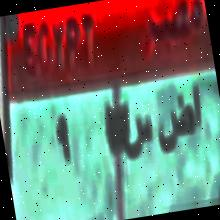9: (50, 107, 76, 171)
alif: (188, 77, 207, 138)
daad: (152, 92, 198, 158)
seen: (119, 101, 157, 167)
